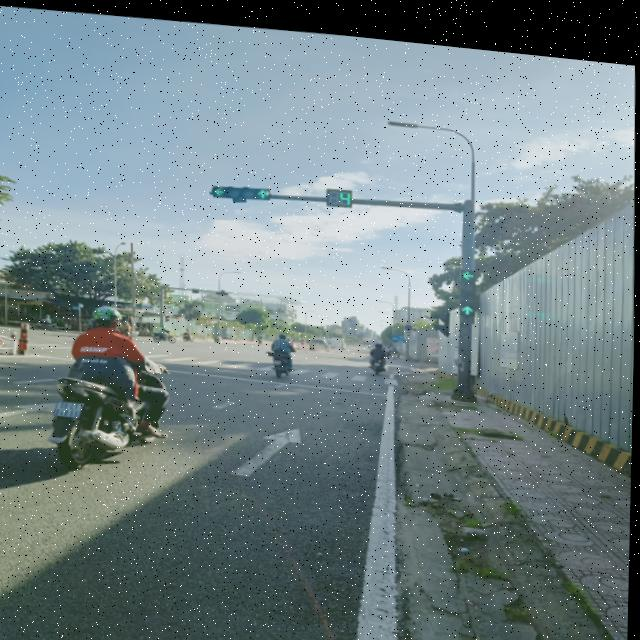Green: (227, 173, 277, 206), (457, 273, 487, 315)
